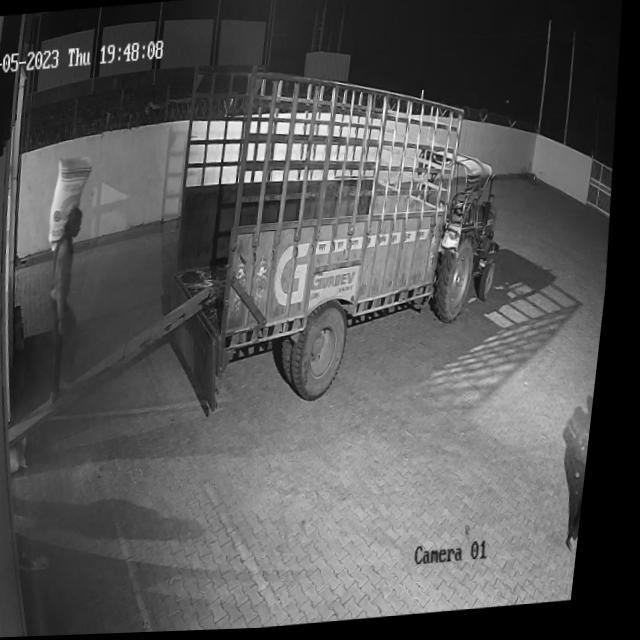sack: (49, 159, 101, 251)
